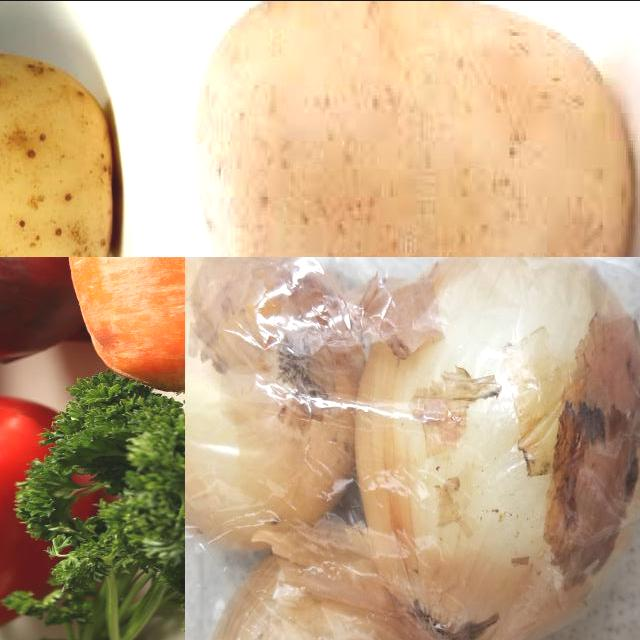bell_pepper: (1, 401, 70, 630)
carrot: (32, 257, 185, 384)
onion: (353, 257, 640, 640), (186, 257, 362, 546), (194, 548, 448, 640)
potato: (186, 1, 640, 257), (1, 36, 116, 257)
